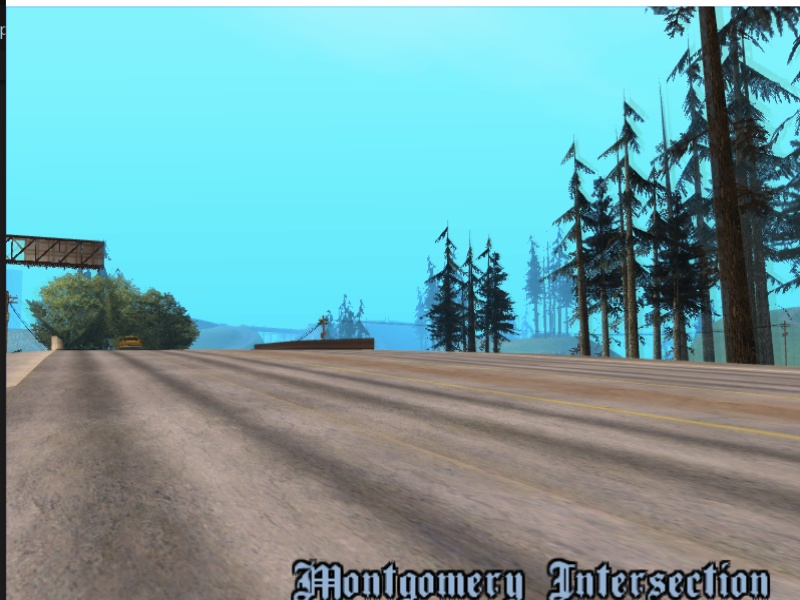tree: (692, 9, 765, 364)
vehicle: (113, 335, 143, 352)
